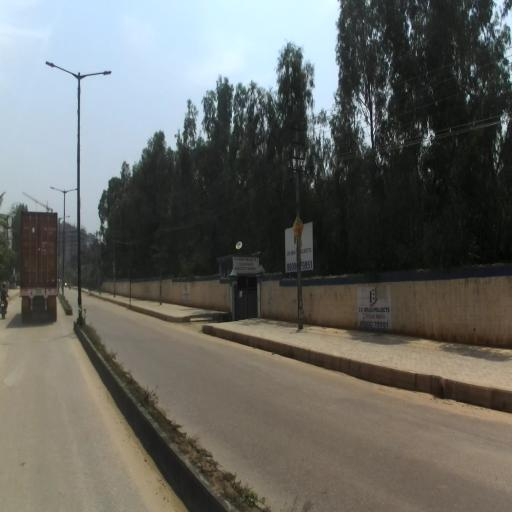street_light_0: (45, 60, 81, 80), (78, 71, 112, 84), (50, 186, 66, 196), (64, 188, 78, 195), (59, 214, 71, 222)
